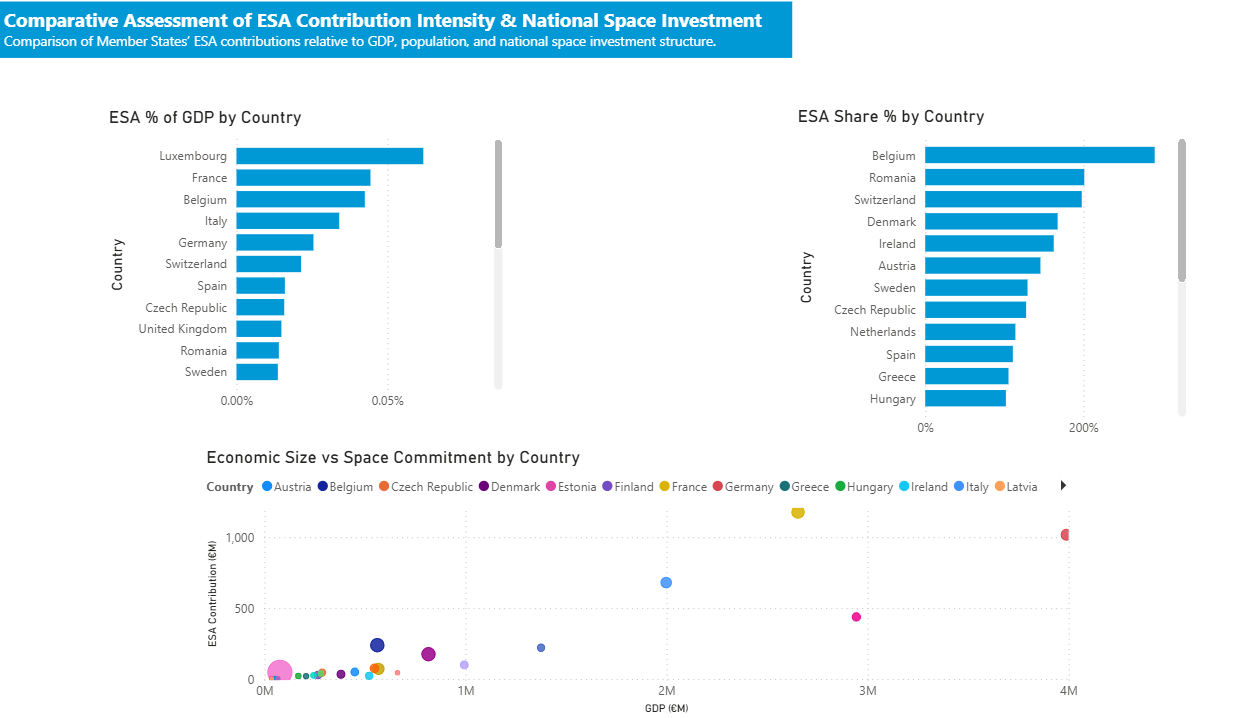

The page's visual inventory and layout, read from the dashboard file:
{"tool":"powerbi","page":{"name":"Analytical Deep Dive","canvas":[1280,720],"ordinal":2},"visuals":[{"type":"clusteredBarChart","fields":{"Category":["Dim_Country.Country"],"Y":["Dim_Country.ESA % of GDP"]},"box":[102.5,120,395,306.2],"z":0},{"type":"clusteredBarChart","fields":{"Category":["Dim_Country.Country"],"Y":["Dim_Country.ESA Share %"]},"box":[776.2,118.8,390,333.8],"z":1000},{"type":"scatterChart","title":"Economic Size vs Space Commitment by Country","fields":{"X":["Dim_Country.Total GDP (€M)"],"Y":["Dim_Country.Total ESA Contribution (€M)"],"Size":["Dim_Country.ESA per Capita (€)"],"Series":["Dim_Country.Country"]},"box":[197.5,452.5,862.5,267.5],"z":2000},{"type":"textbox","box":[0,17.5,776.2,55],"z":3000}]}

Visuals, with their boxes on the page's 1280x720 design canvas (x1, y1, x2, y2). These are canvas units, not pixel positions in the 1238x718 screenshot, which may show the page scaled, cropped or inside an application window:
clusteredBarChart - Dim_Country.Country x Dim_Country.ESA % of GDP: 102,120,498,426
clusteredBarChart - Dim_Country.Country x Dim_Country.ESA Share %: 776,119,1166,453
"Economic Size vs Space Commitment by Country" scatterChart: 198,452,1060,720
textbox: 0,18,776,72
